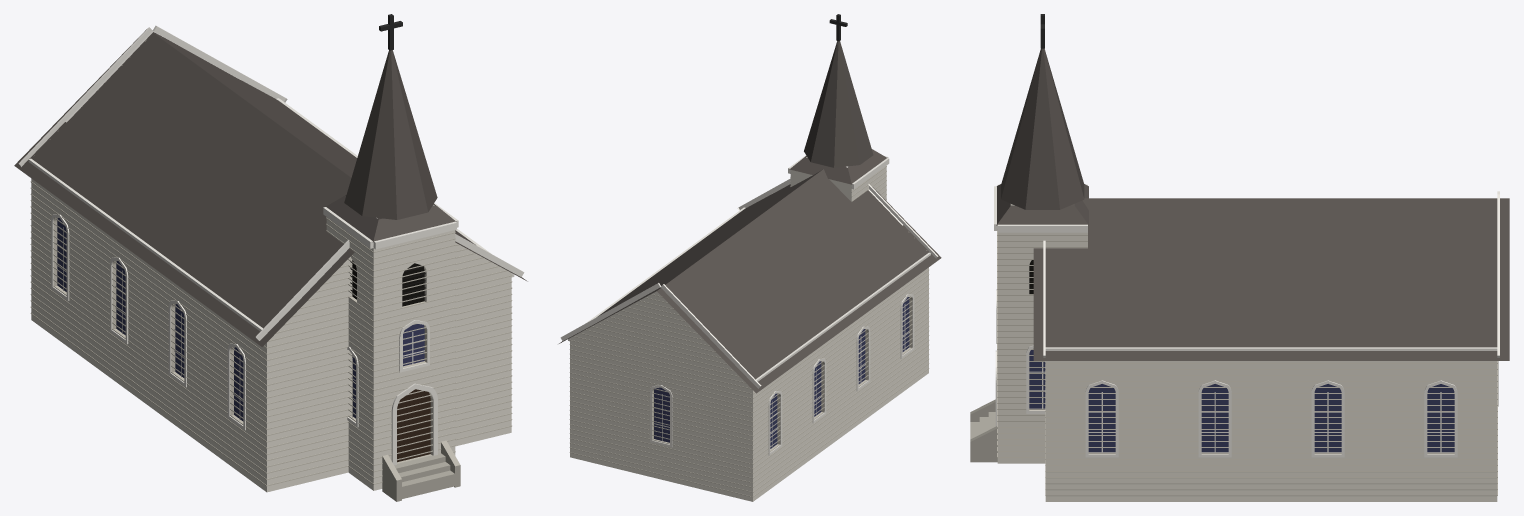
File: ch-st-pauls-german-evangelical-1913.glb
3 renders of one model, left to right at view 1: azimuth 30°, elevation 25°; view 2: azimuth 150°, elevation 25°; view 3: azimuth 270°, elevation 25°, orthographic. The views are drawn at different scales.
Visible parts, largest first — view 1: ch_brick, ch_roof, ch_brick2, ch_trim, ch_roof2, ch_stain, ch_conc, ch_door, ch_shadow; view 2: ch_brick, ch_roof, ch_brick2, ch_trim, ch_roof2, ch_stain; view 3: ch_roof, ch_brick, ch_brick2, ch_roof2, ch_trim, ch_stain, ch_conc.
Boxes of the visible parts, <box> form: ch_brick: <box>31,178,511,492</box>; ch_roof: <box>14,29,527,346</box>; ch_brick2: <box>30,40,512,486</box>; ch_trim: <box>18,25,524,465</box>; ch_roof2: <box>325,50,456,242</box>; ch_stain: <box>57,218,424,421</box>; ch_conc: <box>382,440,460,501</box>; ch_door: <box>397,389,430,462</box>; ch_shadow: <box>352,260,424,306</box>; ch_brick: <box>570,157,928,501</box>; ch_roof: <box>559,166,941,393</box>; ch_brick2: <box>569,166,929,497</box>; ch_trim: <box>560,155,938,455</box>; ch_roof2: <box>789,41,886,184</box>; ch_stain: <box>654,297,909,448</box>; ch_roof: <box>1033,198,1509,360</box>; ch_brick: <box>997,204,1497,501</box>; ch_brick2: <box>997,229,1497,496</box>; ch_roof2: <box>996,48,1088,225</box>; ch_trim: <box>994,184,1499,457</box>; ch_stain: <box>1029,350,1454,452</box>; ch_conc: <box>970,399,997,462</box>.
Bounding box in the file's own units: 9.84 × 15.85 × 17.9.
